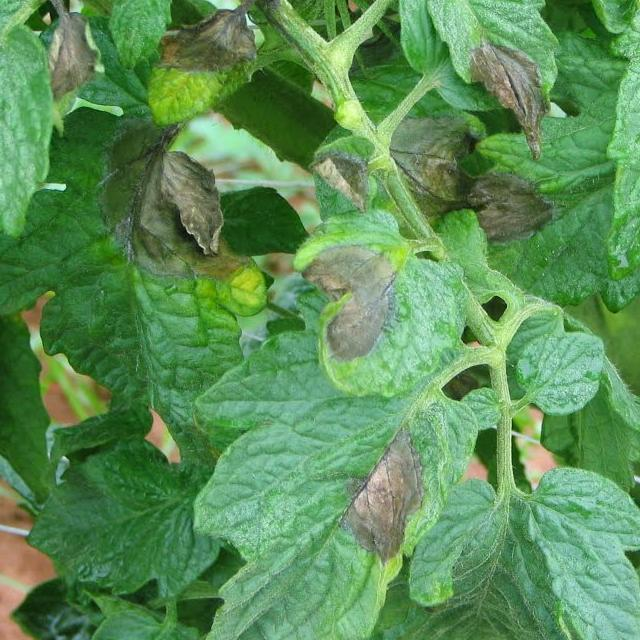Tomato leaf late blight: (189, 325, 483, 640), (0, 82, 251, 446), (293, 224, 470, 397), (139, 0, 264, 141), (431, 0, 551, 144)
